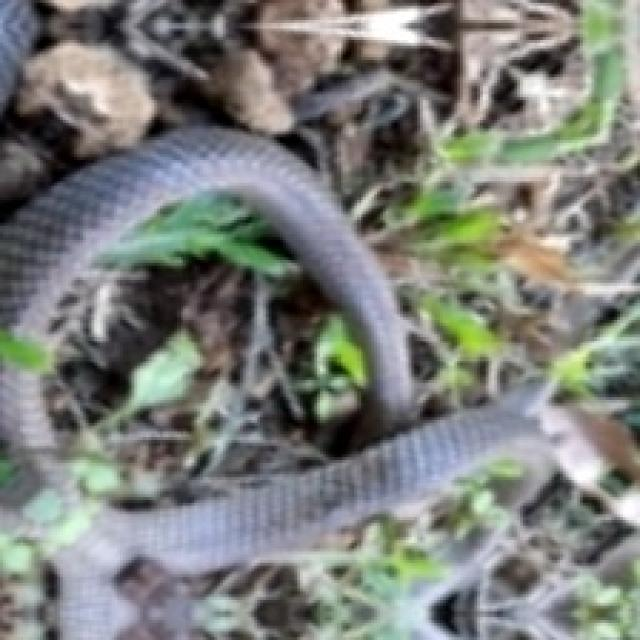paradise tree snake: (51, 383, 600, 637), (0, 126, 414, 426), (0, 366, 77, 506)
